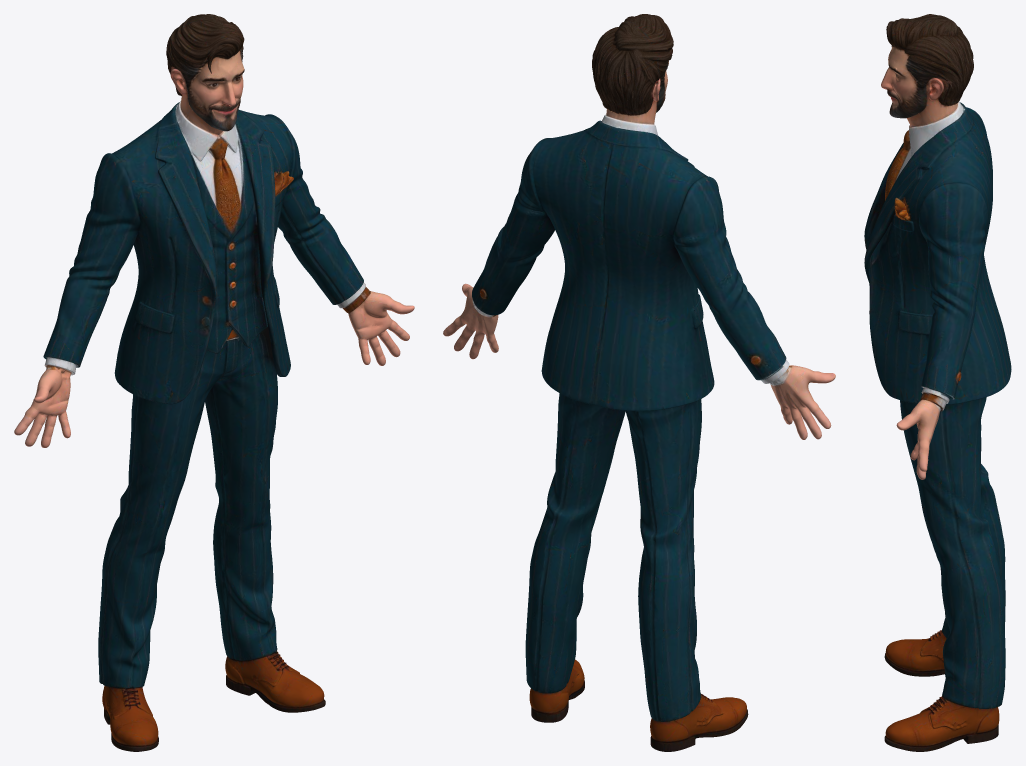
File: architect-mobile.glb
3 renders of one model, left to right at view 1: azimuth 30°, elevation 25°; view 2: azimuth 150°, elevation 25°; view 3: azimuth 270°, elevation 25°, orthographic. The views are drawn at different scales.
Visible parts, largest first — view 1: businessman; view 2: businessman; view 3: businessman.
Part boxes in pixels (x1,y1,x2,y2): businessman: [14, 14, 414, 751]; businessman: [443, 14, 835, 751]; businessman: [864, 14, 1011, 751].
Bounding box in the file's own units: 1.06 × 1.8 × 0.3492.
Materials: 1 (1 with a texture image).
